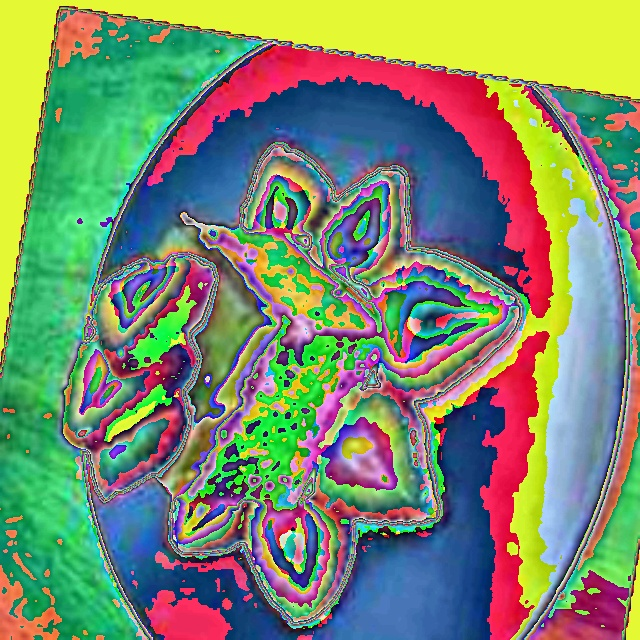background: (55, 143, 524, 624)
